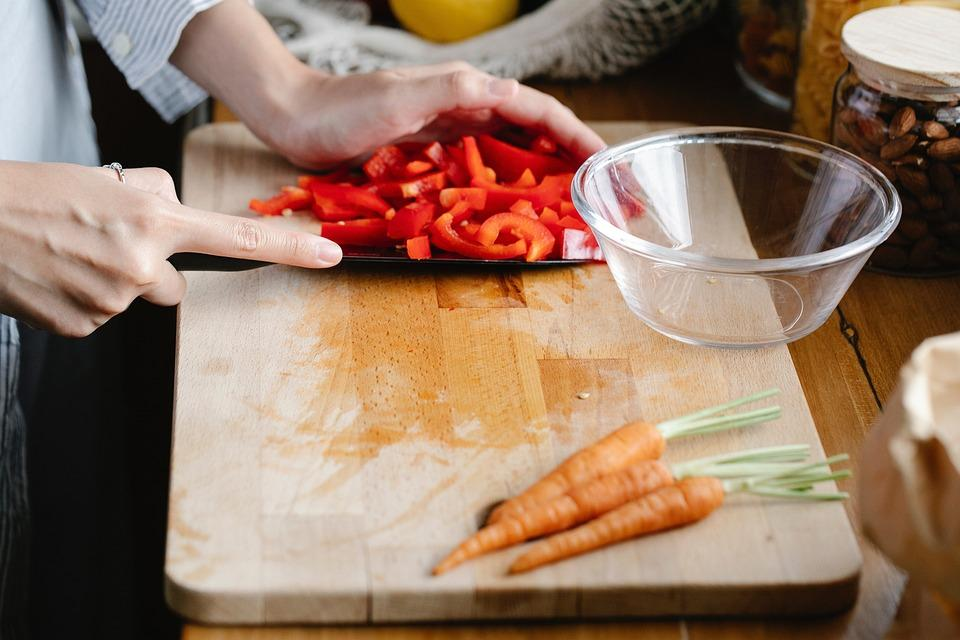bell pepper: (268, 88, 626, 294)
carrot: (462, 418, 787, 571)
